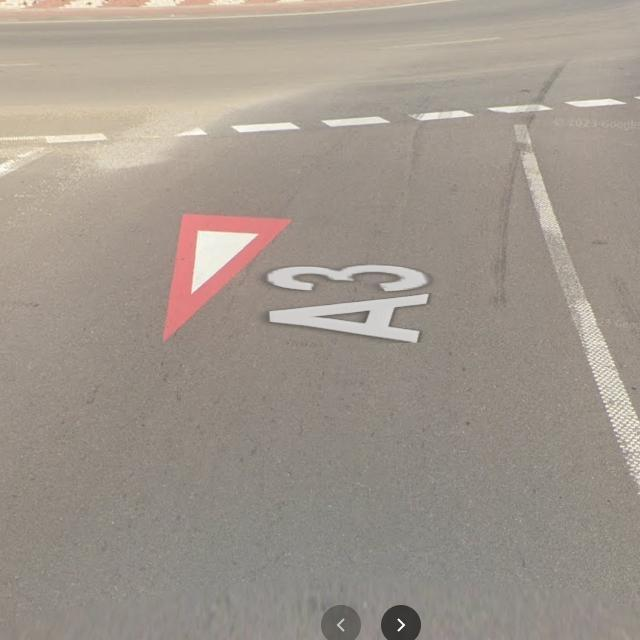prio_give_way: (165, 211, 299, 341)
